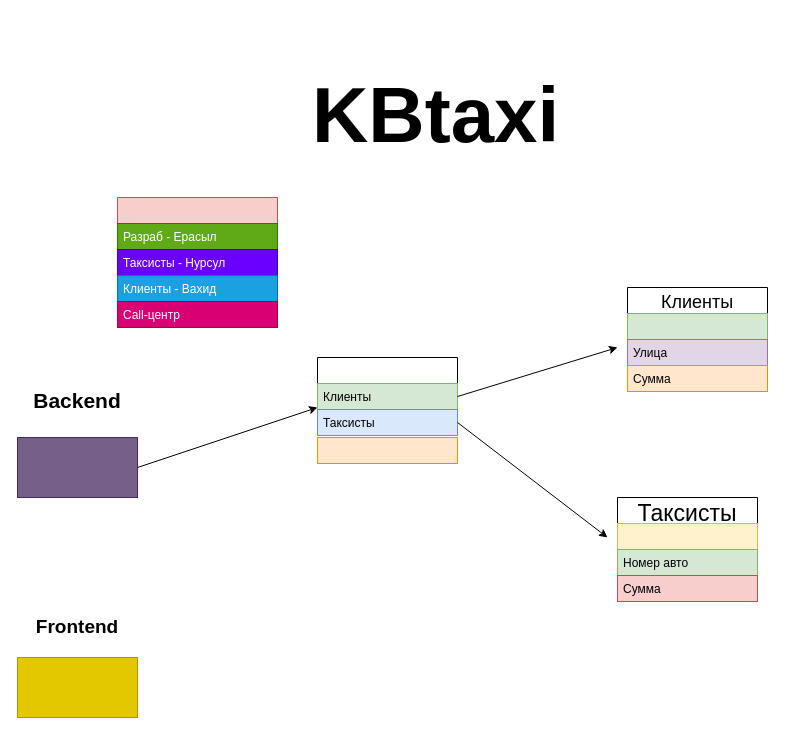
Image size: 785x735. Some labels were removed from this diagram. Each missing label, with the box of its shape:
API (DRF): (16, 436, 138, 498)
App: (16, 656, 138, 718)
База данных: (316, 356, 458, 436)
Название: (626, 312, 768, 340)
Сотрудники: (116, 196, 278, 302)
ФИО: (616, 522, 758, 550)
